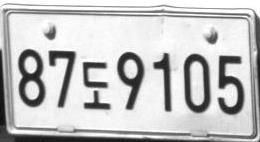0: (183, 53, 211, 113)
1: (151, 52, 179, 112)
5: (218, 55, 244, 115)
7: (48, 50, 76, 107)
8: (16, 48, 45, 107)
9: (116, 51, 144, 110)
도: (82, 61, 111, 109)
